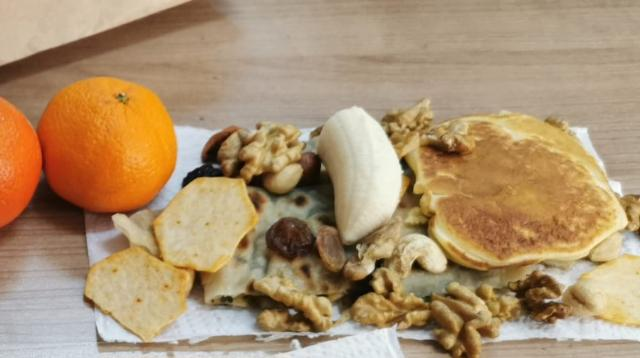Organik: (197, 121, 554, 352), (407, 103, 633, 272), (37, 72, 174, 211), (316, 103, 406, 249), (78, 241, 195, 346), (151, 171, 266, 277), (0, 92, 43, 244)
